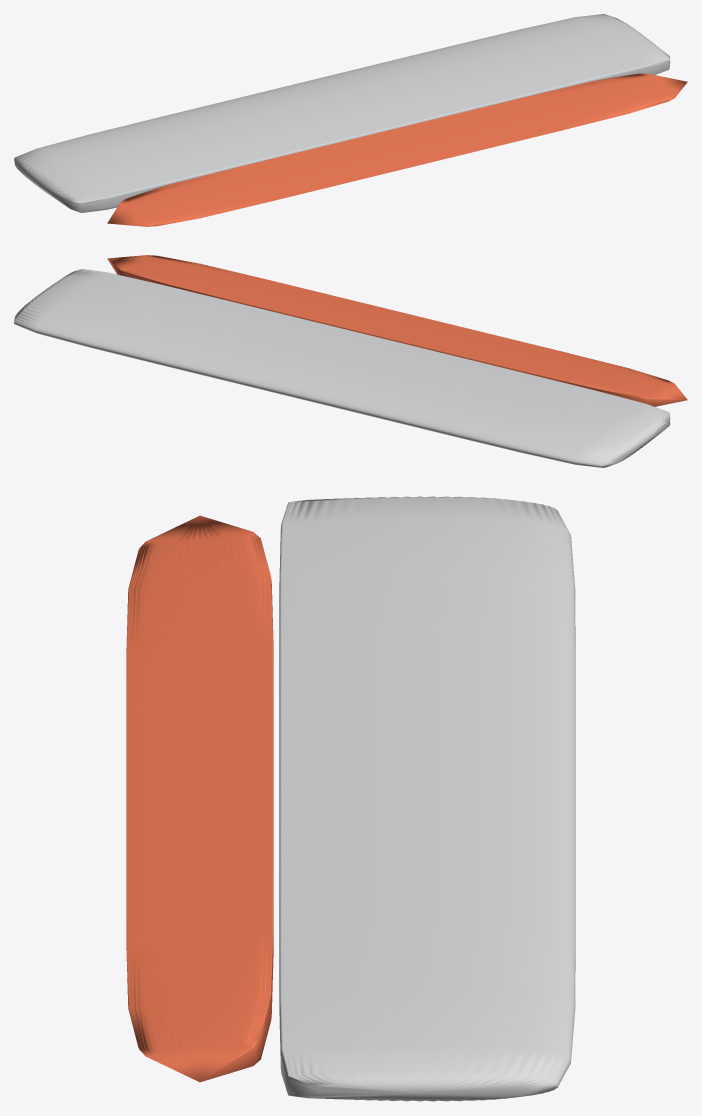
Rendered from stab.glb.
3 renders of one model, top to bottom at view 1: azimuth 30°, elevation 25°; view 2: azimuth 150°, elevation 25°; view 3: azimuth 270°, elevation 25°, orthographic. The views are drawn at different scales.
Visible parts, largest first — view 1: StabMain, StabControl; view 2: StabMain, StabControl; view 3: StabMain, StabControl.
Part boxes in pixels (x1=…): StabMain: x1=14, y1=14, x2=670, y2=212; StabControl: x1=107, y1=73, x2=687, y2=226; StabMain: x1=14, y1=269, x2=670, y2=467; StabControl: x1=107, y1=255, x2=687, y2=406; StabMain: x1=279, y1=496, x2=575, y2=1101; StabControl: x1=126, y1=515, x2=273, y2=1082.
Bounding box in the file's own units: 2.48 × 0.0798 × 0.7993.
